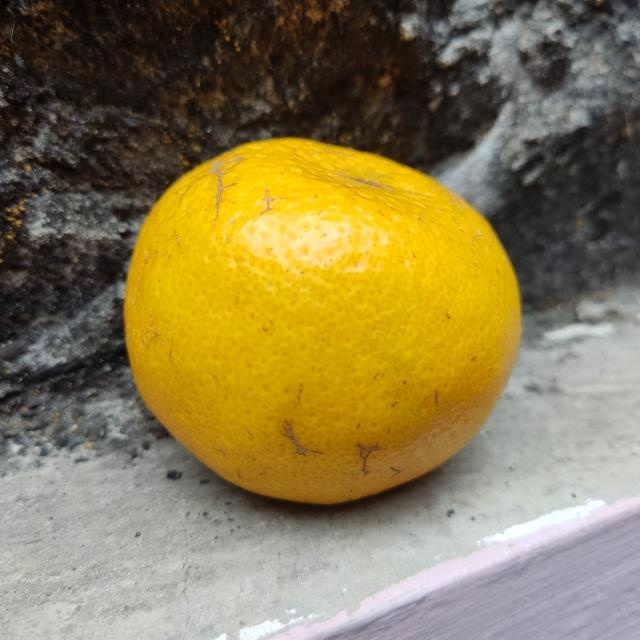agrume: (116, 134, 524, 510)
